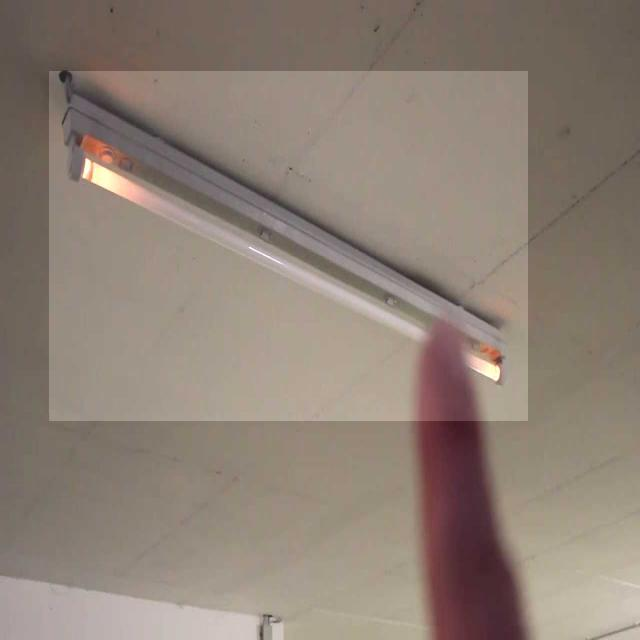light: (58, 77, 513, 388)
